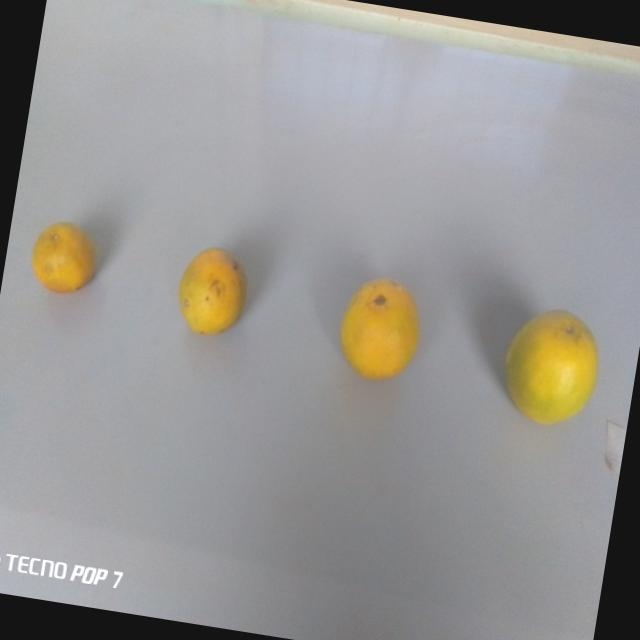agrume: (482, 286, 606, 443), (330, 272, 430, 391), (168, 233, 256, 349), (23, 211, 106, 307)
